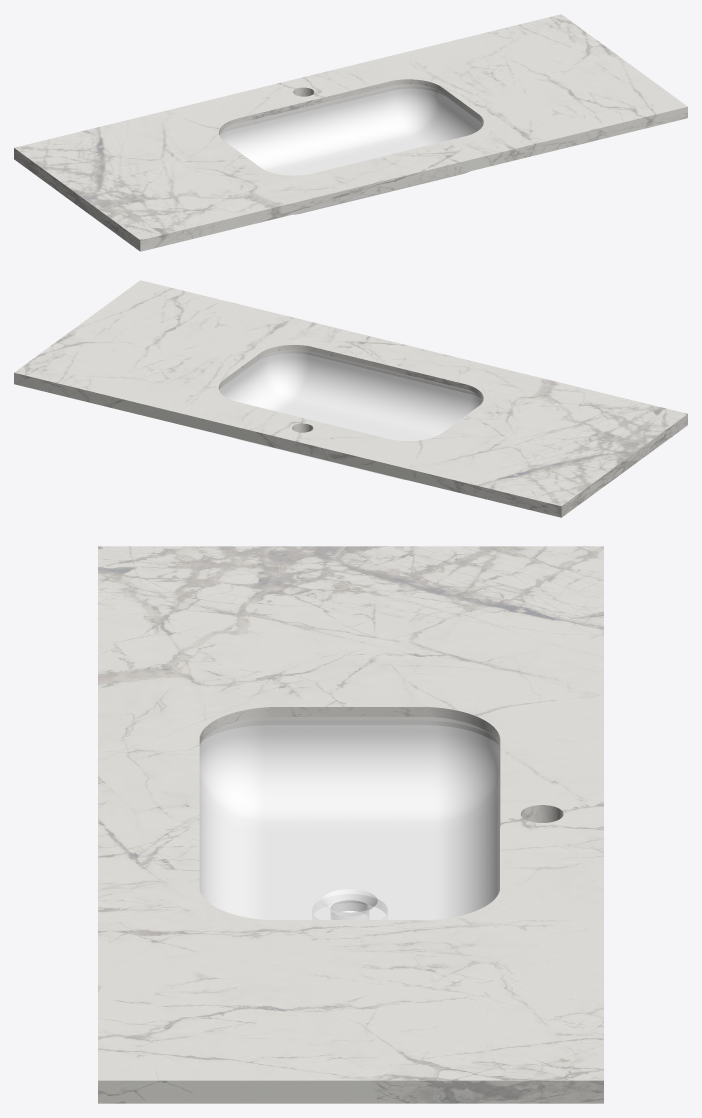
The picture shows the model from 3 angles, top to bottom: view 1: azimuth 30°, elevation 25°; view 2: azimuth 150°, elevation 25°; view 3: azimuth 270°, elevation 25°; orthographic projection. The views are drawn at different scales.
Visible parts, largest first — view 1: FA 146 cer (встраиваемая), FA 146(встраиваемая); view 2: FA 146 cer (встраиваемая), FA 146(встраиваемая); view 3: FA 146 cer (встраиваемая), FA 146(встраиваемая).
Boxes of the visible parts, x1,y1,x2,y2 form: FA 146 cer (встраиваемая): [14, 14, 687, 251]; FA 146(встраиваемая): [219, 84, 483, 214]; FA 146 cer (встраиваемая): [14, 280, 687, 517]; FA 146(встраиваемая): [219, 350, 483, 480]; FA 146 cer (встраиваемая): [98, 546, 603, 1103]; FA 146(встраиваемая): [199, 717, 499, 919].
Size of the model in its own units: 1.5 by 0.1384 by 0.6.
Materials: 3 (1 with a texture image).
